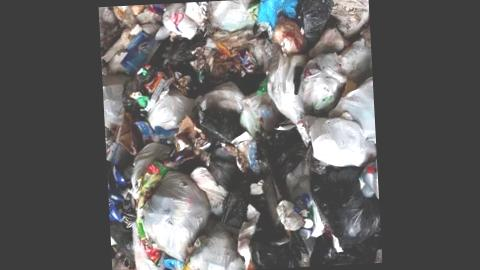Trash: (98, 0, 381, 270)
